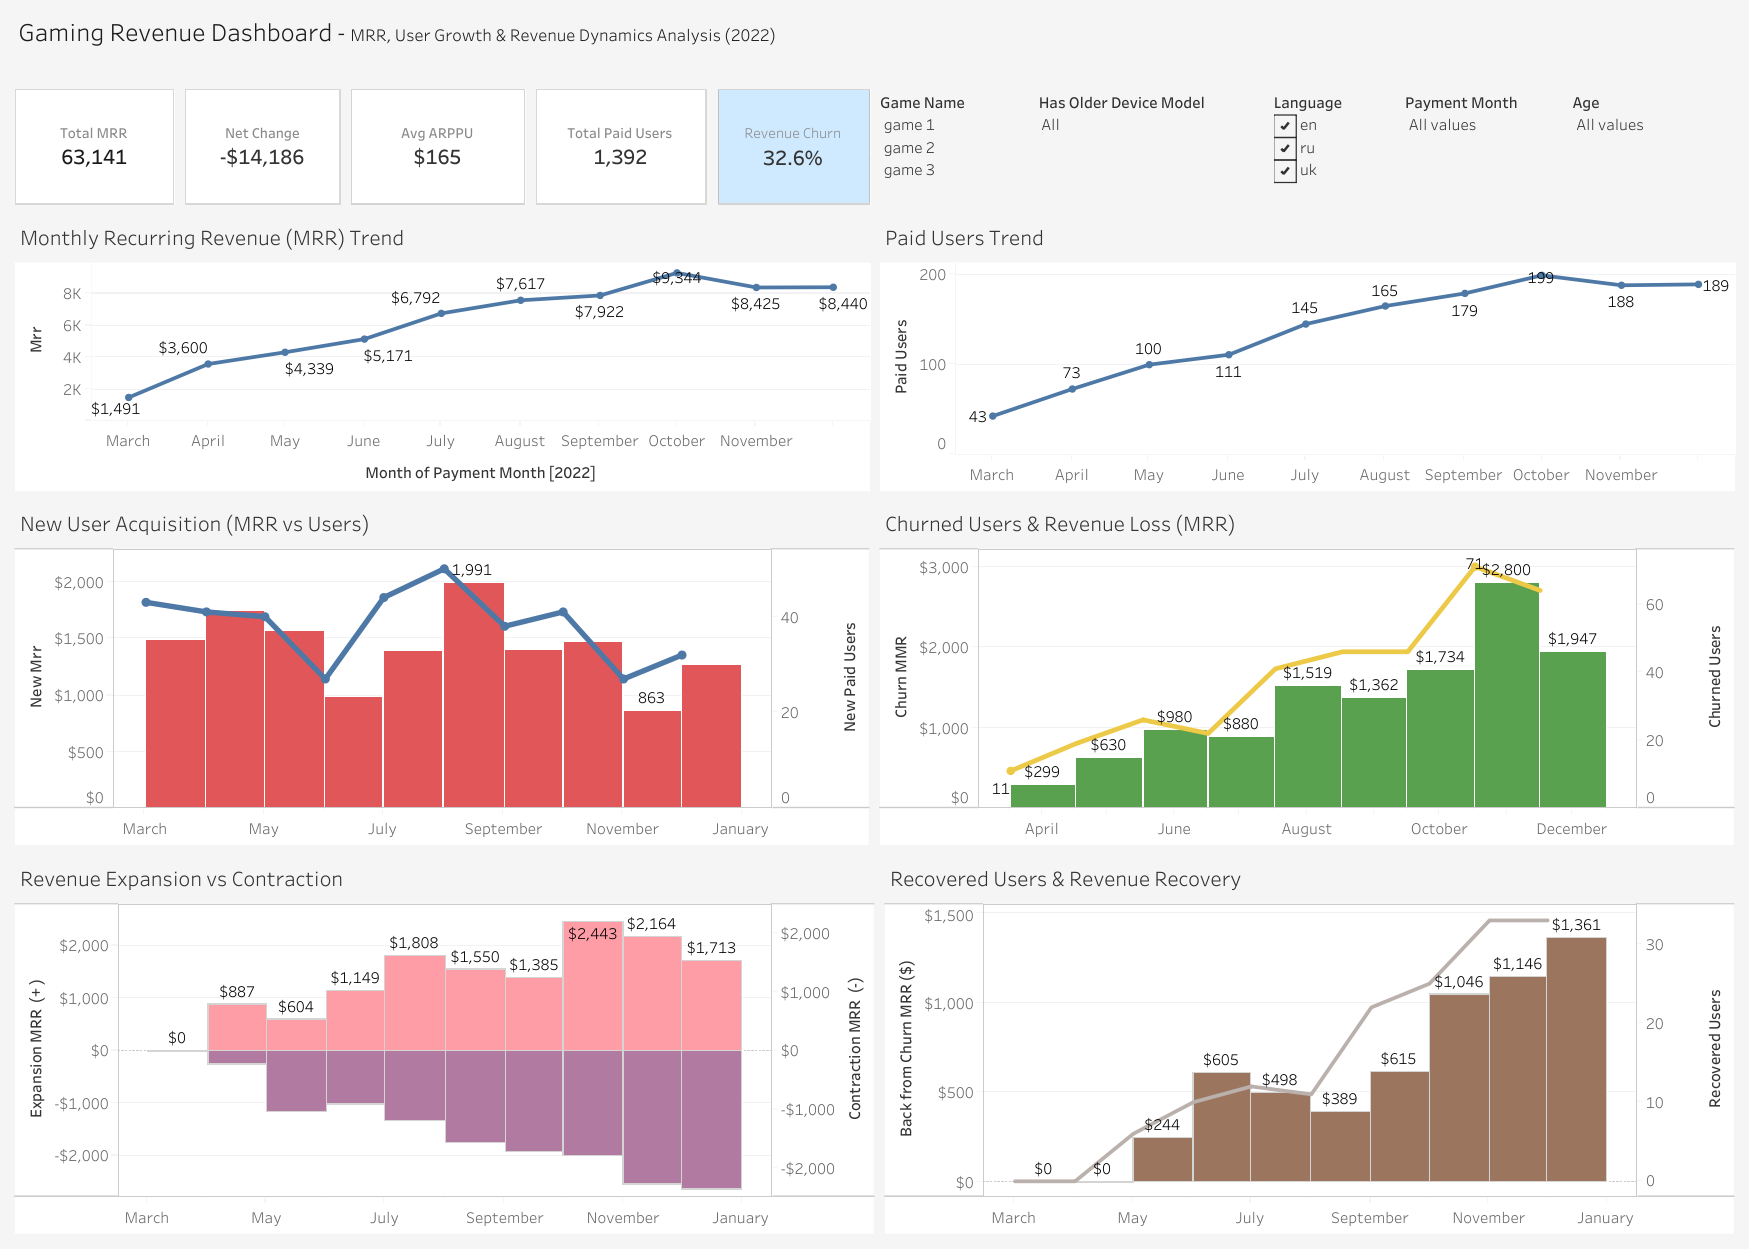

What the dashboard file says about the page in this screenshot:
{"tool":"tableau","page":{"name":"Gaming Revenue Dashboard","canvas":[1400,1000],"ordinal":0},"visuals":[{"type":"text","box":[8,8,1384,40]},{"type":"worksheet","title":"Total MRR","mark":"Text","box":[8,67,136,101]},{"type":"worksheet","title":"Total Net Change","mark":"Text","box":[144,67,133,101]},{"type":"worksheet","title":"Avg ARPPU","mark":"Text","box":[277,67,148,101]},{"type":"worksheet","title":"Total Paid Users","mark":"Text","box":[425,67,145,101]},{"type":"worksheet","title":"Revenue Churn Rate","mark":"Automatic","box":[570,67,130,101]},{"type":"filter","title":"New Users vs New MRR","param":"[federated.1ianpsq0fjrqva17mjje31u7c0tf].[none:game_name:nk]","box":[700,67,127,101]},{"type":"filter","title":"New Users vs New MRR","param":"[federated.1ianpsq0fjrqva17mjje31u7c0tf].[none:has_older_device_model:nk]","box":[827,67,188,101]},{"type":"filter","title":"New Users vs New MRR","param":"[federated.1ianpsq0fjrqva17mjje31u7c0tf].[none:language:nk]","box":[1015,67,105,101]},{"type":"filter","title":"New Users vs New MRR","param":"[federated.1ianpsq0fjrqva17mjje31u7c0tf].[none:payment_month:qk]","box":[1120,67,134,101]},{"type":"filter","title":"New Users vs New MRR","param":"[federated.1ianpsq0fjrqva17mjje31u7c0tf].[none:age:qk]","box":[1254,67,138,101]},{"type":"worksheet","title":"Monthly Recurring Revenue (MRR) Trend","mark":"Line","rows":["mrr"],"cols":["payment_month"],"box":[8,168,692,229]},{"type":"worksheet","title":"Paid Users Trend","mark":"Line","rows":["user_id"],"cols":["payment_month"],"box":[700,168,692,229]},{"type":"worksheet","title":"New Users vs New MRR","mark":"Automatic","rows":["new_mrr","Calculation_2282649599000587"],"cols":["payment_month"],"box":[8,397,692,284]},{"type":"worksheet","title":"Churned Users vs Churn MRR","mark":"Automatic","rows":["churned_revenue","Calculation_2282649605197836"],"cols":["churn_month"],"box":[700,397,692,284]},{"type":"worksheet","title":"Expansion vs Contraction","mark":"Bar","rows":["expansion_revenue","Calculation_2282649629708303"],"cols":["payment_month"],"box":[8,681,697,311]},{"type":"worksheet","title":"Back From Churn Recovery","mark":"Automatic","rows":["back_from_churn_revenue","Calculation_2282649620209677"],"cols":["payment_month"],"box":[705,681,687,311]}]}

Visuals, with their boxes in screenshot pixels (x1, y1, x2, y2), scaled from the page's 1400x1000 canvas onto the 1749x1249 screenshot:
text: pyautogui.locateOnScreen(10, 10, 1739, 60)
"Total MRR" worksheet (Text marks): pyautogui.locateOnScreen(10, 84, 180, 210)
"Total Net Change" worksheet (Text marks): pyautogui.locateOnScreen(180, 84, 346, 210)
"Avg ARPPU" worksheet (Text marks): pyautogui.locateOnScreen(346, 84, 531, 210)
"Total Paid Users" worksheet (Text marks): pyautogui.locateOnScreen(531, 84, 712, 210)
"Revenue Churn Rate" worksheet: pyautogui.locateOnScreen(712, 84, 874, 210)
"New Users vs New MRR" filter: pyautogui.locateOnScreen(874, 84, 1033, 210)
"New Users vs New MRR" filter: pyautogui.locateOnScreen(1033, 84, 1268, 210)
"New Users vs New MRR" filter: pyautogui.locateOnScreen(1268, 84, 1399, 210)
"New Users vs New MRR" filter: pyautogui.locateOnScreen(1399, 84, 1567, 210)
"New Users vs New MRR" filter: pyautogui.locateOnScreen(1567, 84, 1739, 210)
"Monthly Recurring Revenue (MRR) Trend" worksheet (Line marks): pyautogui.locateOnScreen(10, 210, 874, 496)
"Paid Users Trend" worksheet (Line marks): pyautogui.locateOnScreen(874, 210, 1739, 496)
"New Users vs New MRR" worksheet: pyautogui.locateOnScreen(10, 496, 874, 851)
"Churned Users vs Churn MRR" worksheet: pyautogui.locateOnScreen(874, 496, 1739, 851)
"Expansion vs Contraction" worksheet (Bar marks): pyautogui.locateOnScreen(10, 851, 881, 1239)
"Back From Churn Recovery" worksheet: pyautogui.locateOnScreen(881, 851, 1739, 1239)
